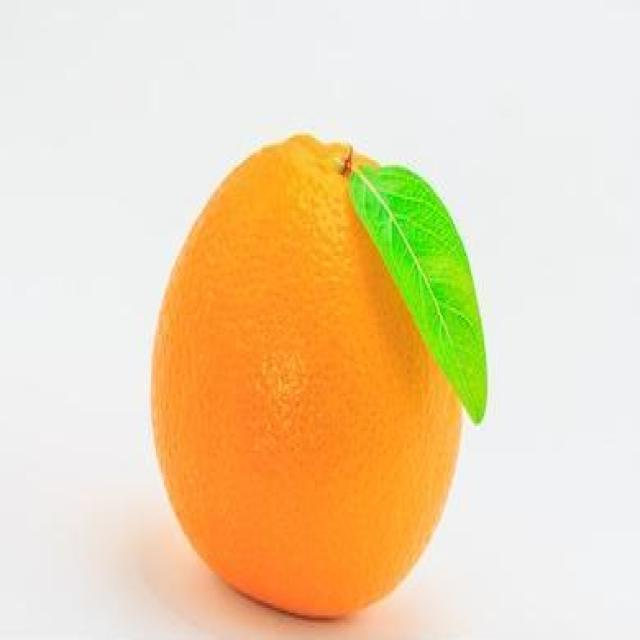orange: (149, 129, 464, 621)
